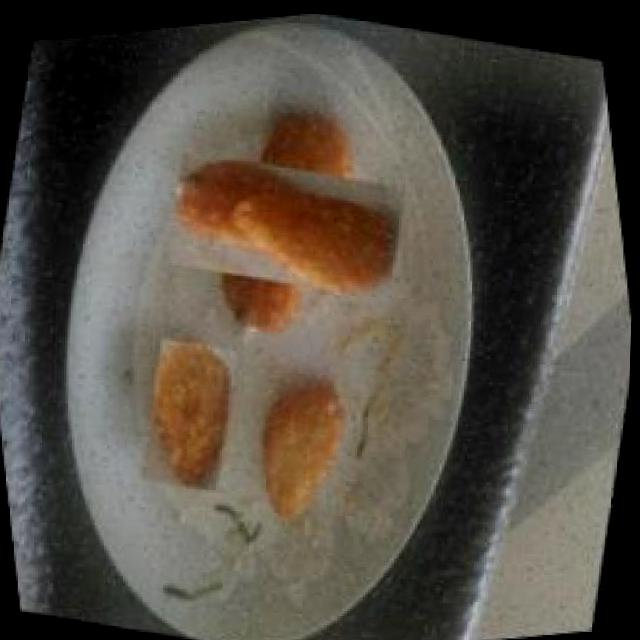triangle_hash_brown: (167, 99, 408, 342), (233, 359, 372, 538), (124, 325, 261, 502)
